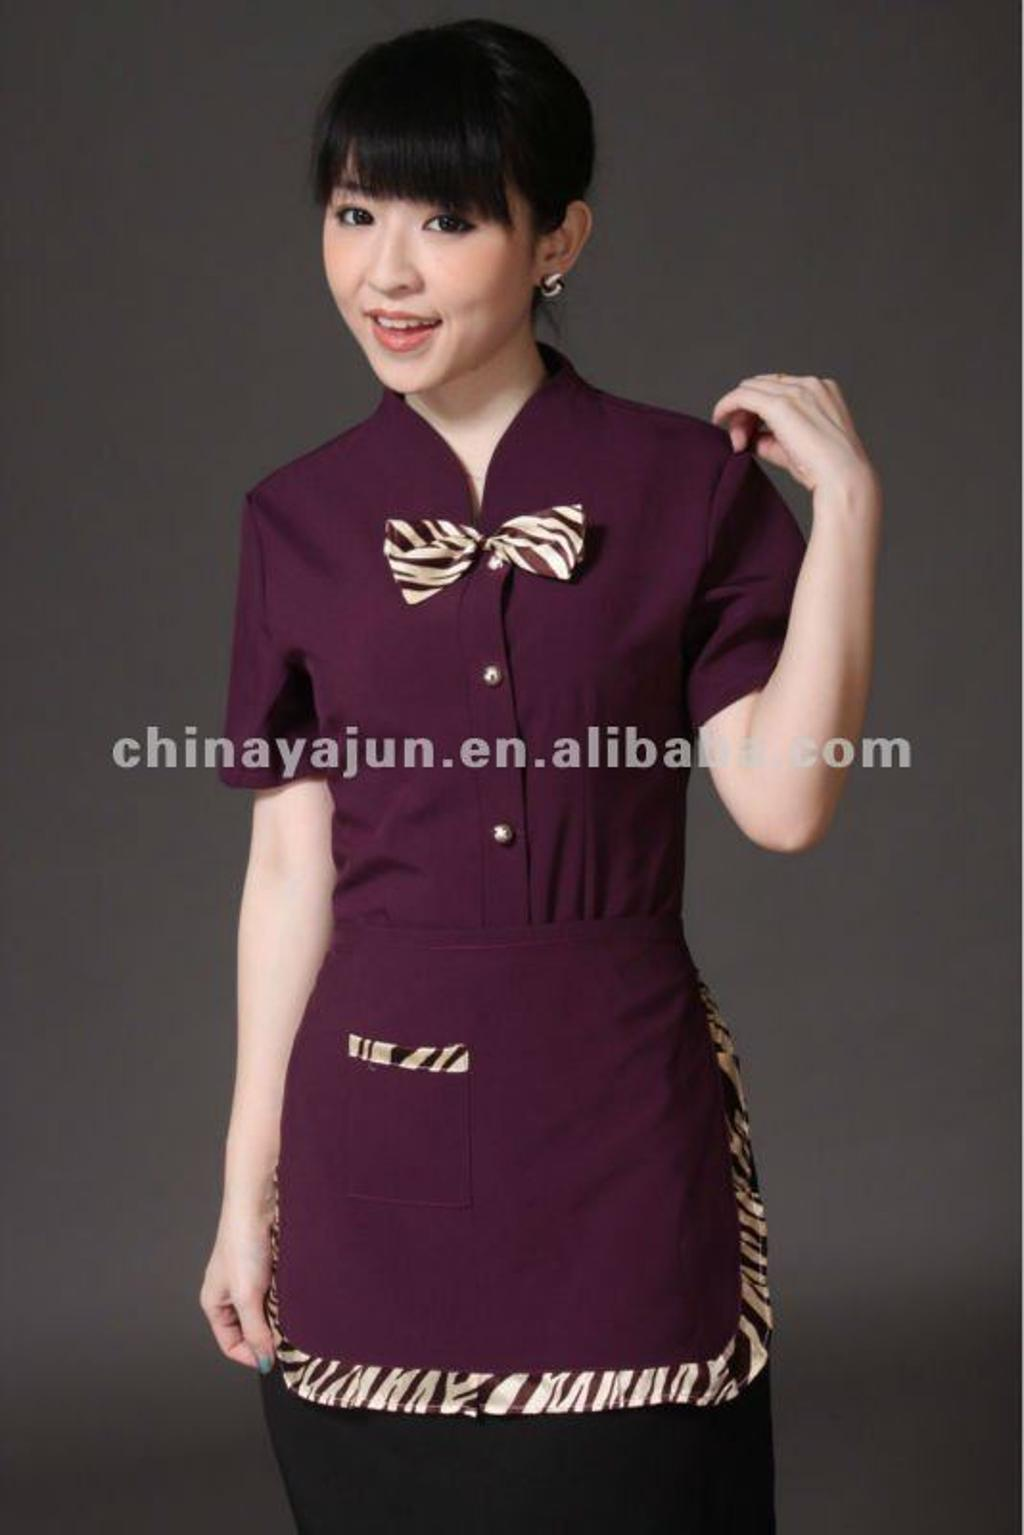face: (320, 114, 536, 395)
